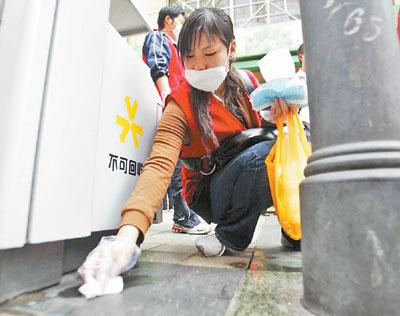OK: (167, 16, 188, 43)
WRONG: (183, 46, 226, 89)
